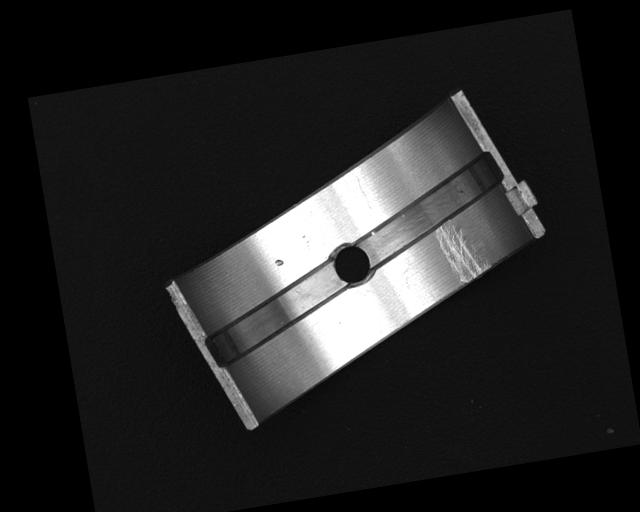bruise: (272, 256, 284, 268)
gap: (345, 150, 510, 267), (198, 263, 354, 367)
hole: (330, 240, 373, 288)
nick: (354, 170, 371, 210)
scratch: (433, 215, 491, 287)
